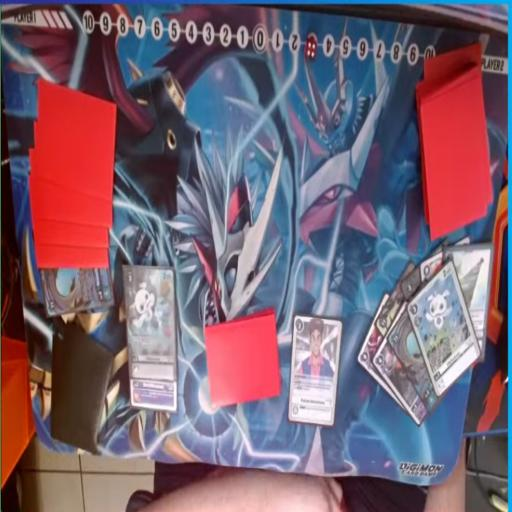card: (408, 261, 480, 396), (444, 243, 493, 360), (288, 313, 338, 427), (130, 265, 178, 380), (388, 305, 437, 410), (373, 338, 427, 423), (41, 256, 115, 317), (358, 323, 404, 410), (375, 264, 414, 336), (127, 378, 179, 412), (420, 246, 443, 280), (400, 267, 421, 301), (375, 294, 389, 318), (457, 238, 468, 243)
